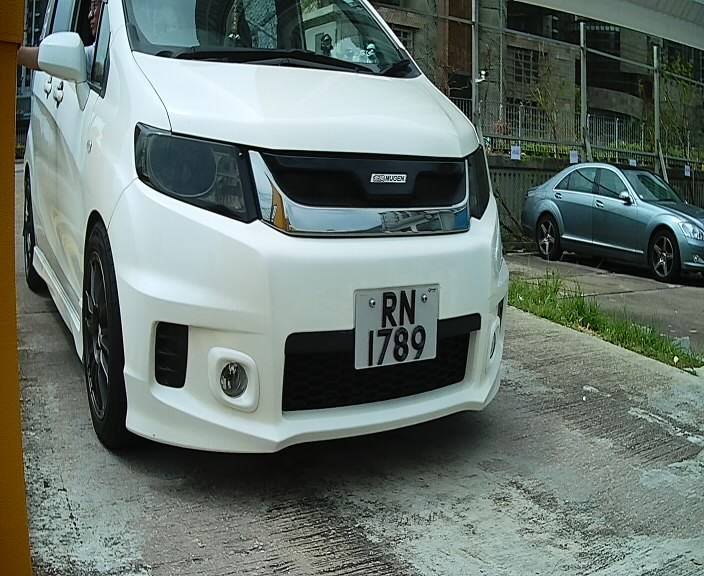License Plate: (347, 279, 451, 376)
